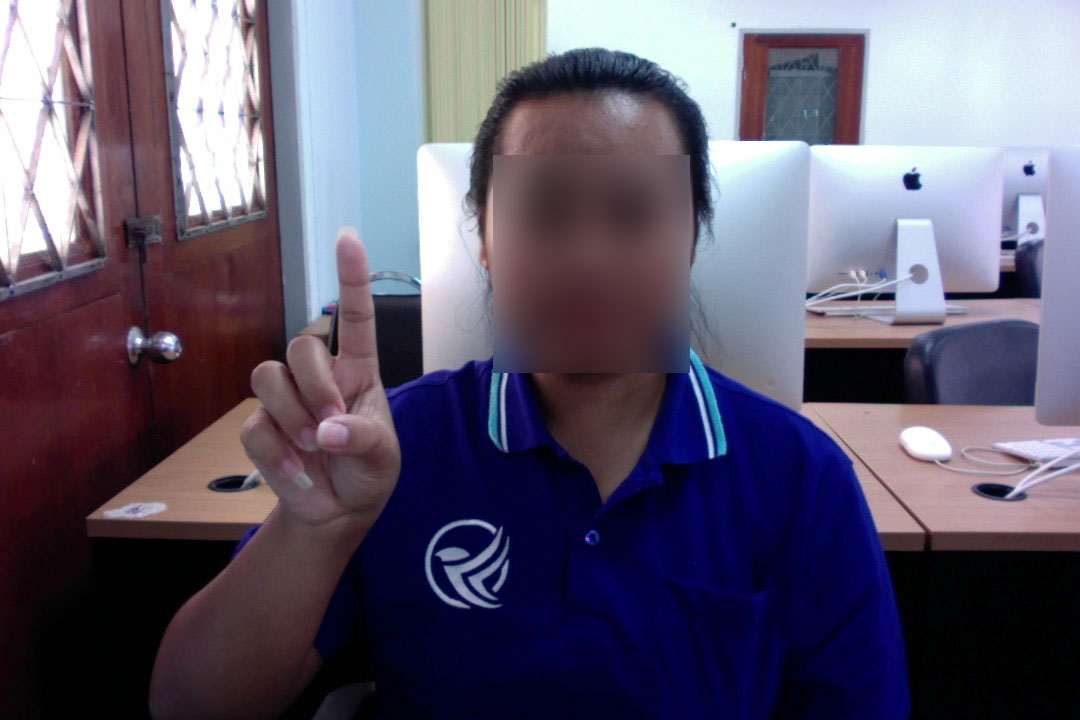dor: (228, 222, 405, 522)
